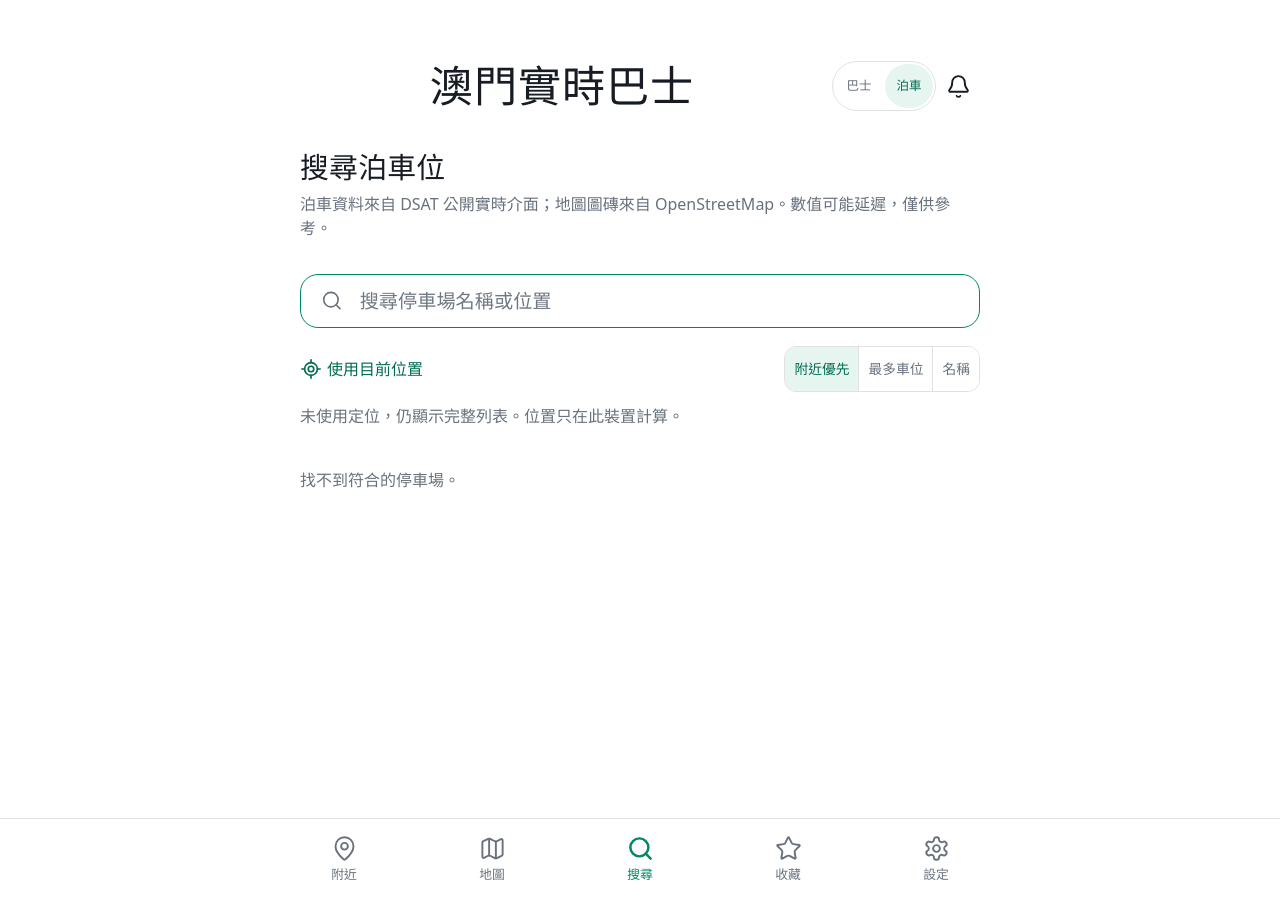
Test: app Pages asset paths › syncs parent-owned parking search query to replaceState without leaking into nearby
Type "氹仔" into the search field labelled "搜尋停車場名稱或位置" at x=658, y=301, box 358,286 -> 959,316
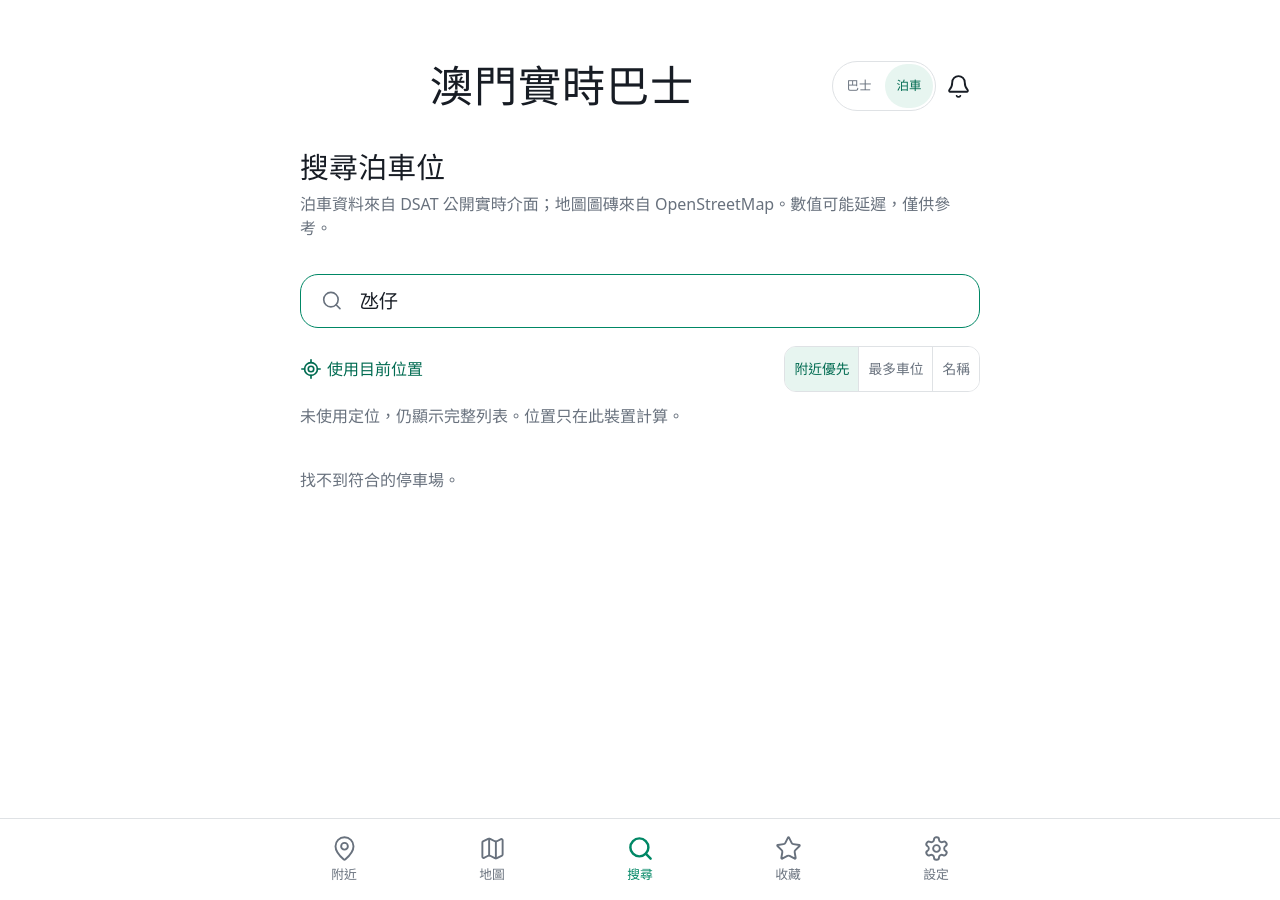
Click the button "附近" at x=344, y=860, box 270,819 -> 418,899
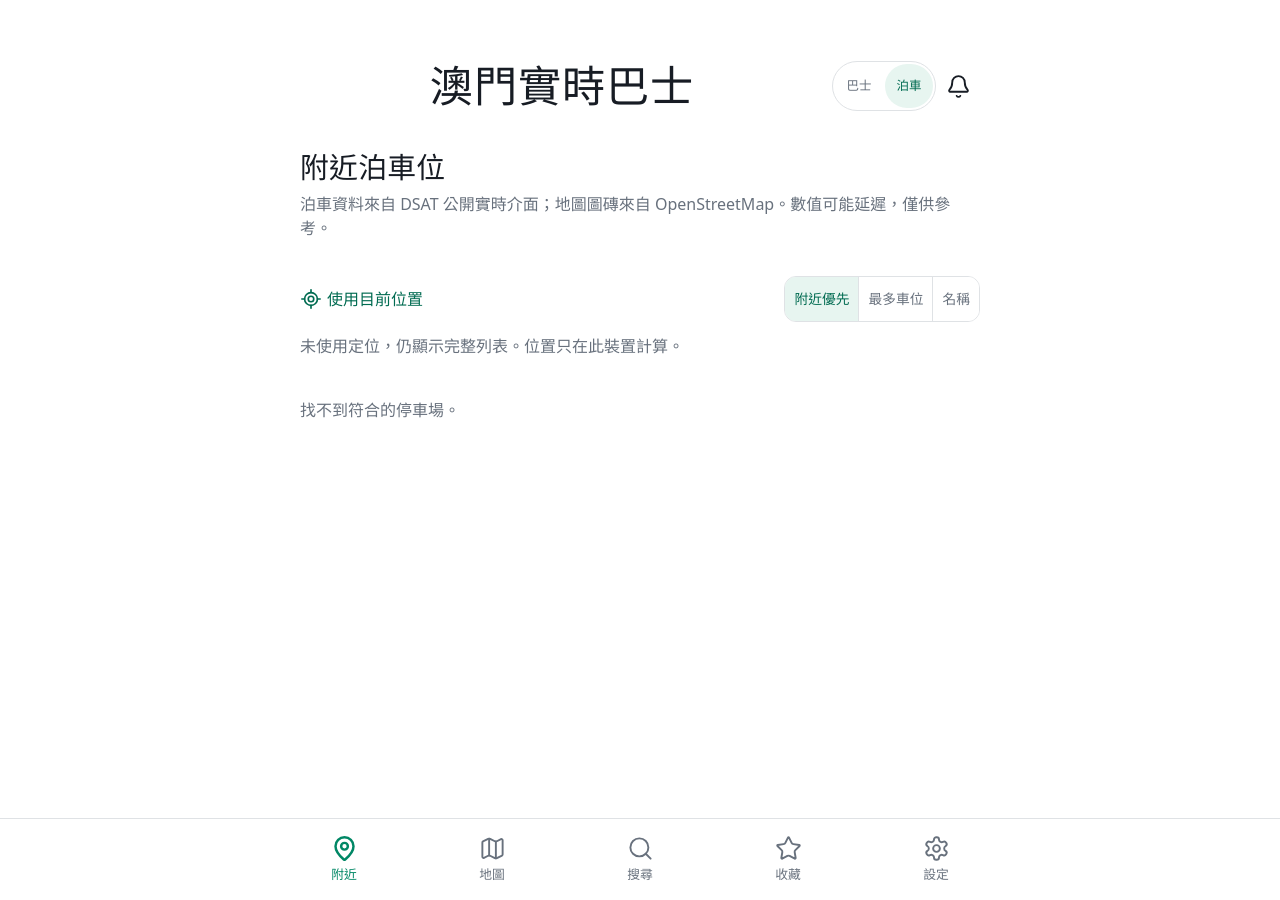
Result: the search field labelled "搜尋停車場名稱或位置" is gone
